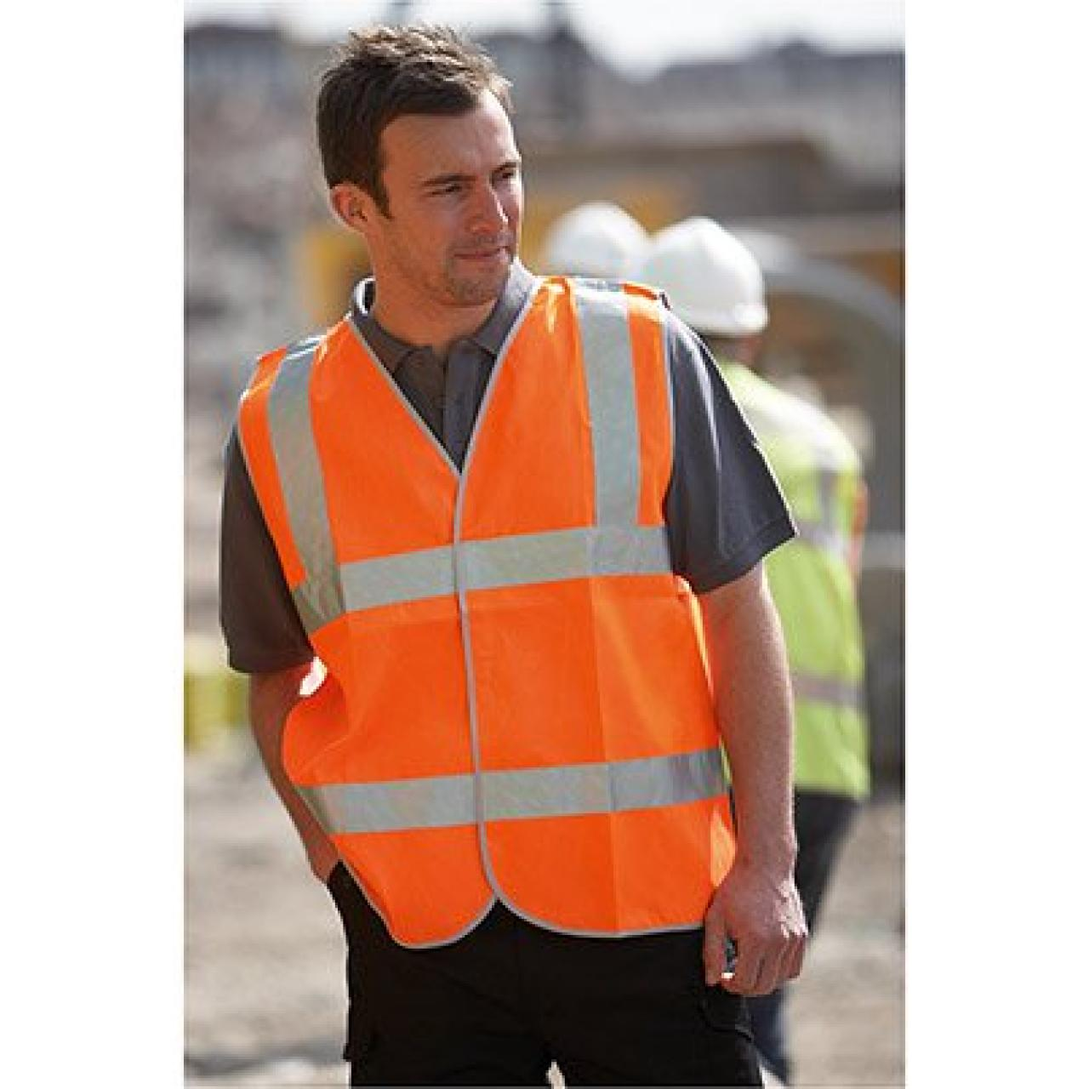Person: (208, 0, 837, 1086)
Safety_Vest: (250, 268, 742, 935)
